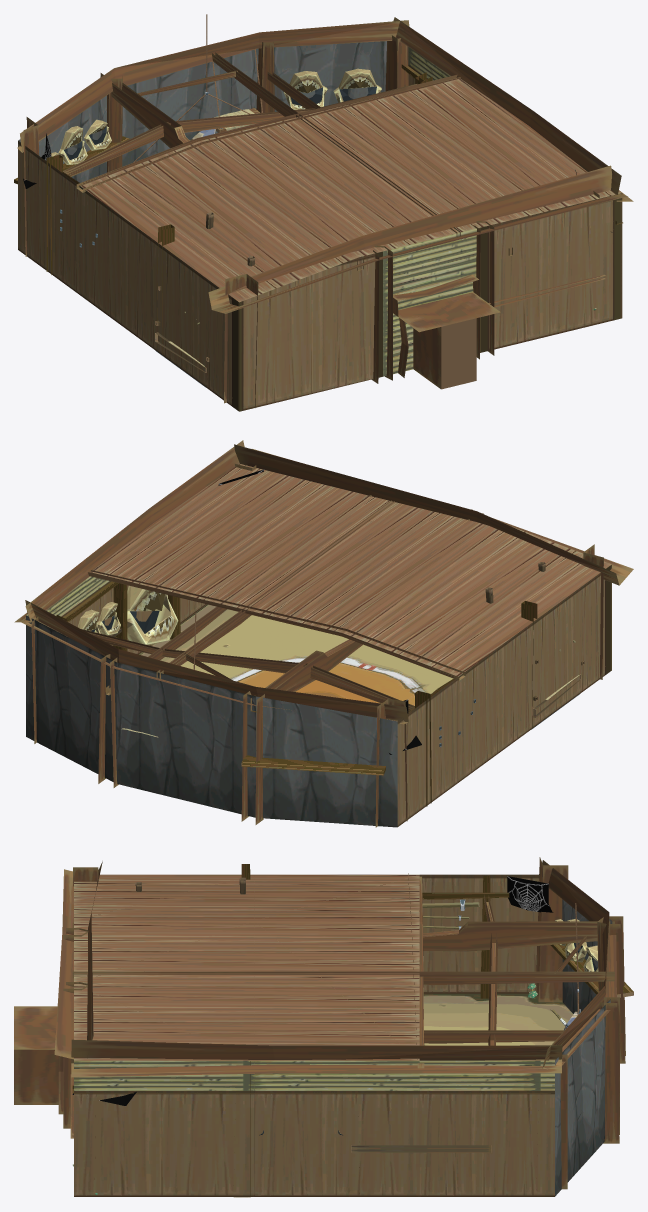
The model's file is OrcaHouse.fbx.
3 renders of one model, top to bottom at view 1: azimuth 30°, elevation 25°; view 2: azimuth 150°, elevation 25°; view 3: azimuth 270°, elevation 25°, orthographic. The views are drawn at different scales.
Parts seen in each view (by area): view 1: Orca's Room; view 2: Orca's Room; view 3: Orca's Room.
Part boxes in pixels (x1=…): Orca's Room: x1=14, y1=14, x2=633, y2=411; Orca's Room: x1=14, y1=440, x2=633, y2=827; Orca's Room: x1=14, y1=857, x2=633, y2=1197.
Bounding box in the file's own units: 172 × 72.62 × 206.
